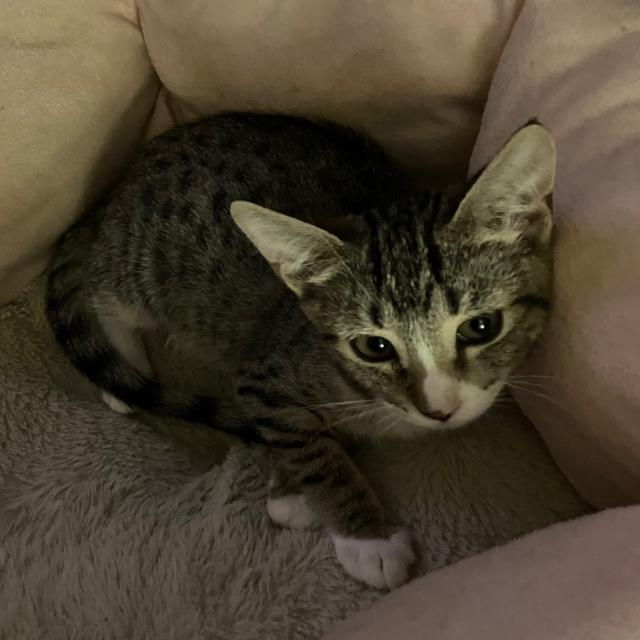american_shorthair_cat: (226, 116, 560, 438)
